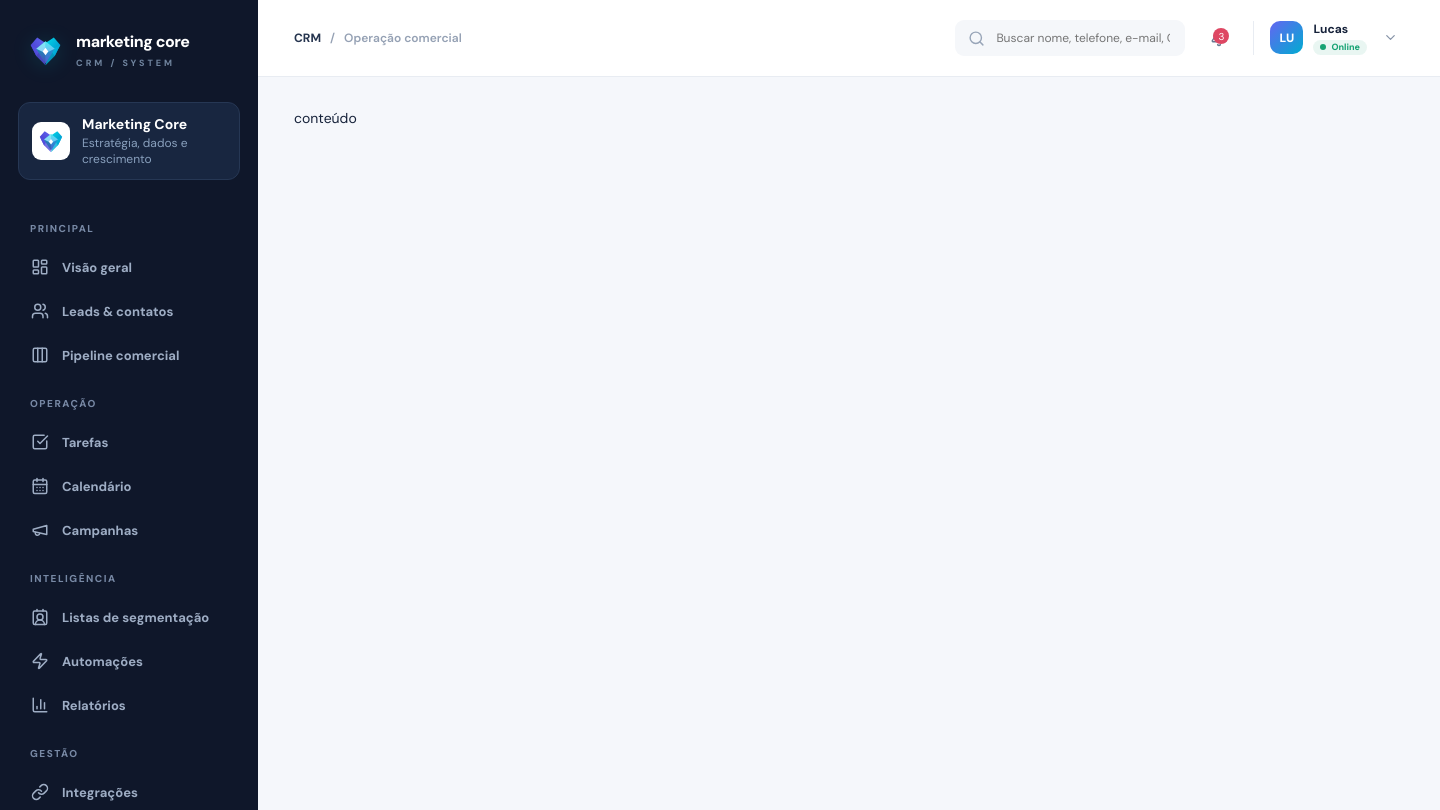
Test: AppShell › pesquisa leads globalmente por CPF e abre o perfil encontrado
The width and height of the screenshot is (1440, 810).
Type "100.000.000-10" into the field named "Busca global" at (1083, 38), box [994, 29, 1172, 47]
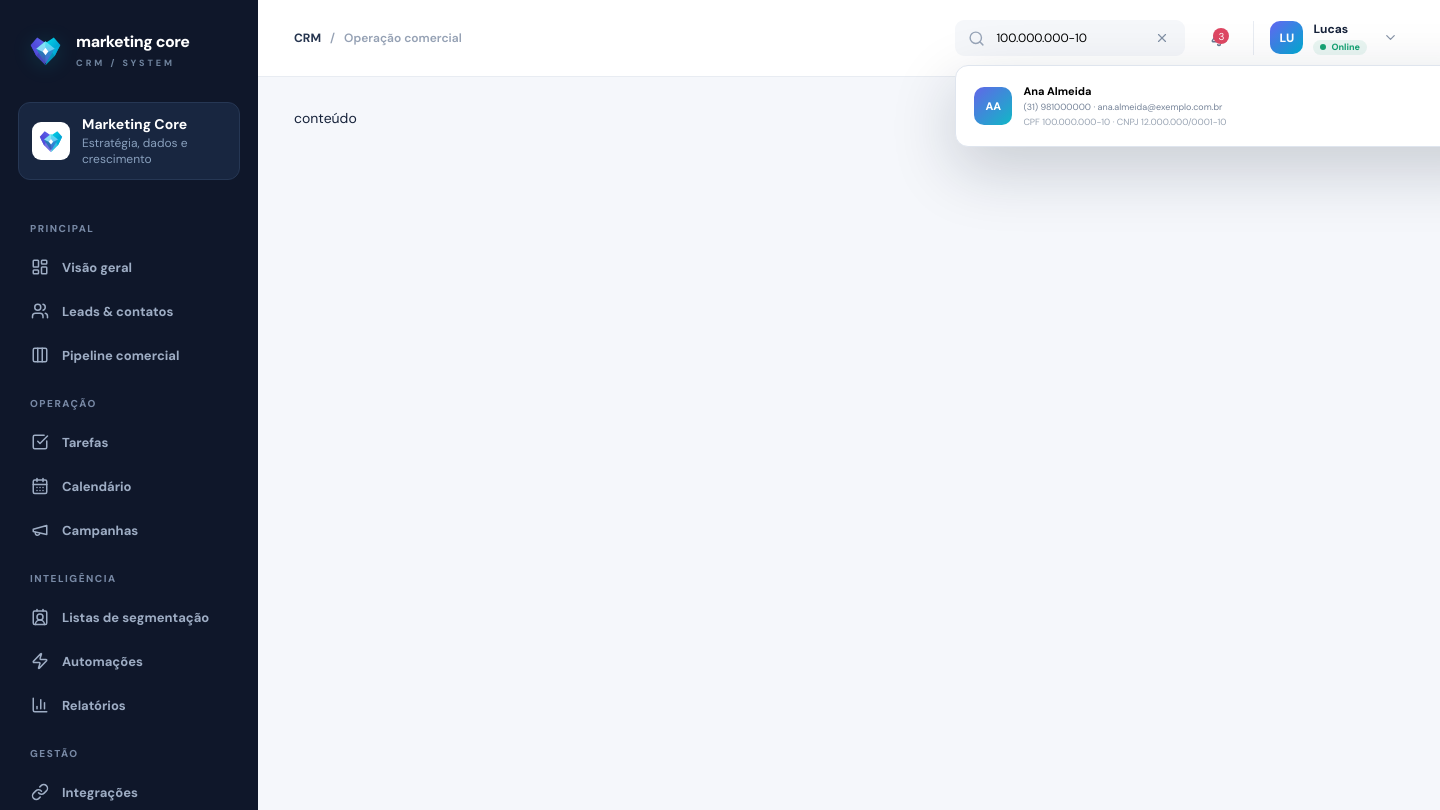
Click the option with aria-label "Abrir lead Ana Almeida" at (1202, 106), box [963, 73, 1439, 139]
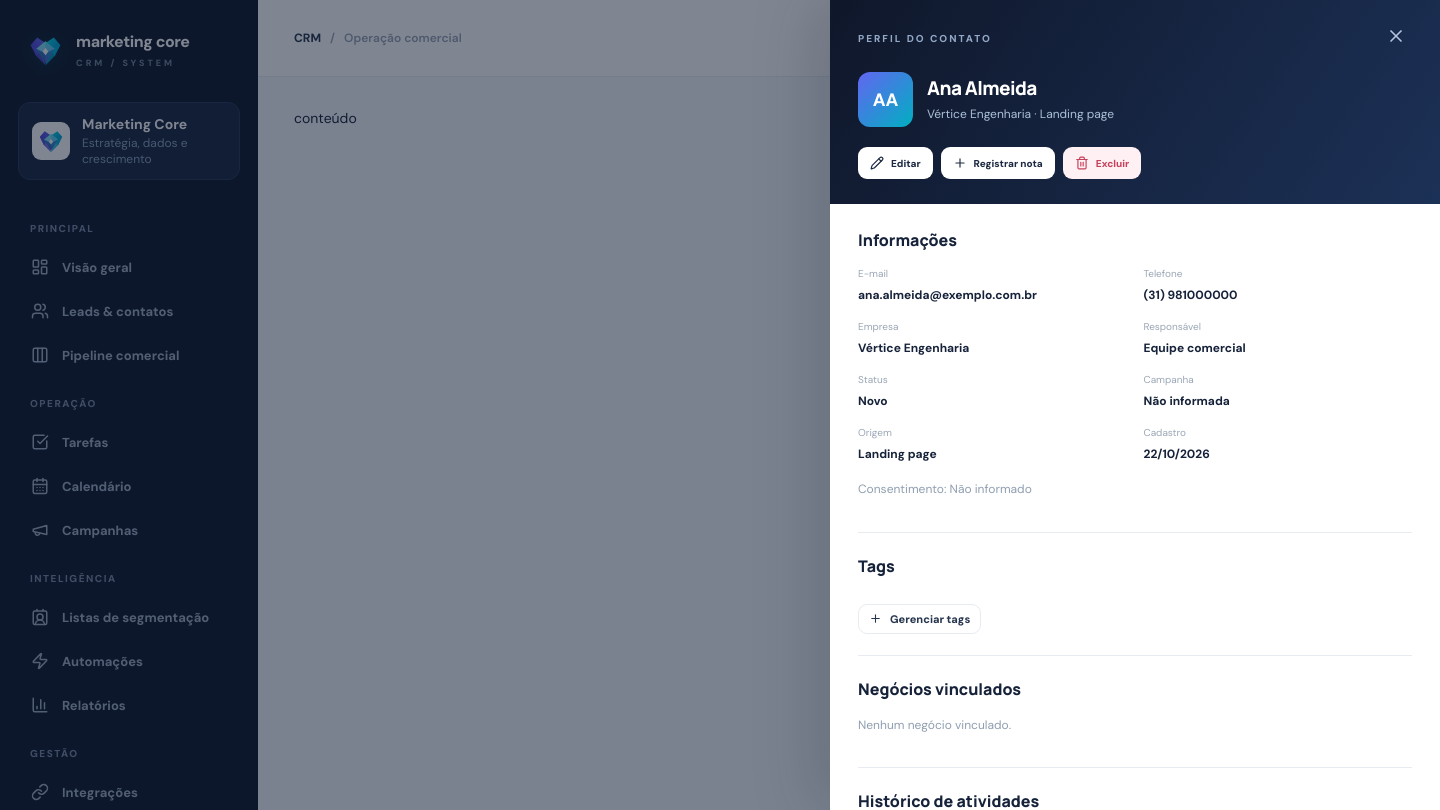
Expected: the dialog named "Detalhes de Ana Almeida" is shown, [830, 0, 1439, 809]
